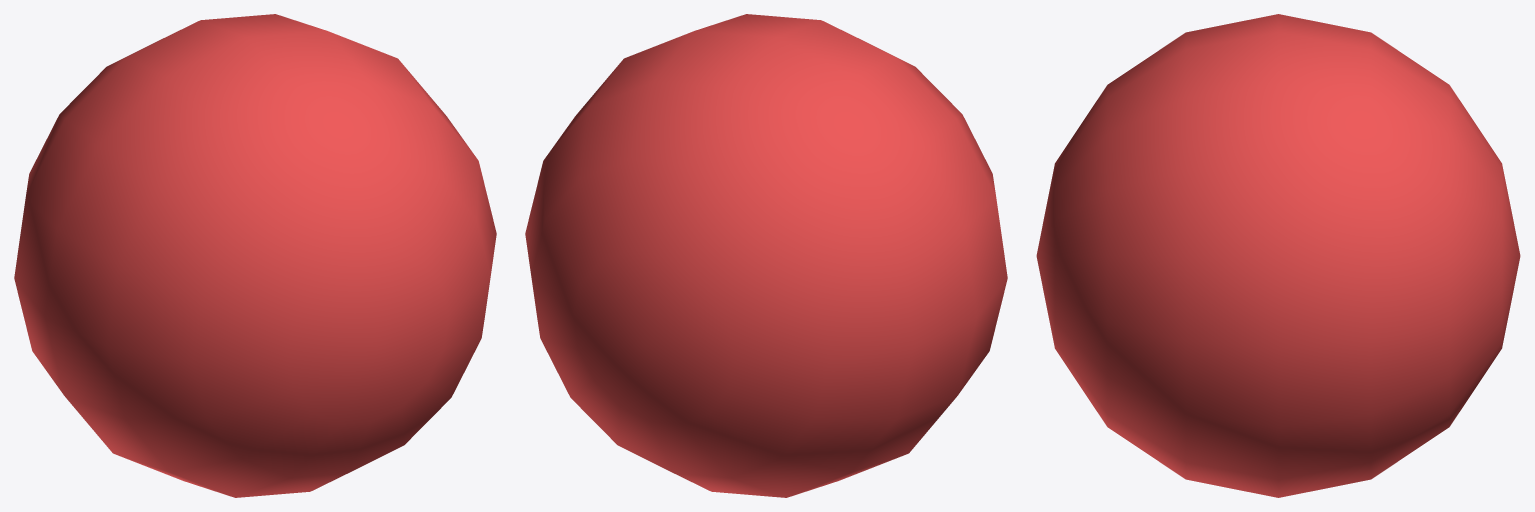
The picture shows the model from 3 angles, left to right: view 1: azimuth 30°, elevation 25°; view 2: azimuth 150°, elevation 25°; view 3: azimuth 270°, elevation 25°; orthographic projection.
Visible parts, largest first — view 1: object_1; view 2: object_1; view 3: object_1.
Part boxes in pixels (x1,y1,x2,y2): object_1: (14, 14, 496, 497); object_1: (525, 14, 1007, 497); object_1: (1036, 14, 1520, 497).
Bounding box in the file's own units: 20.41 × 20.41 × 20.43.
